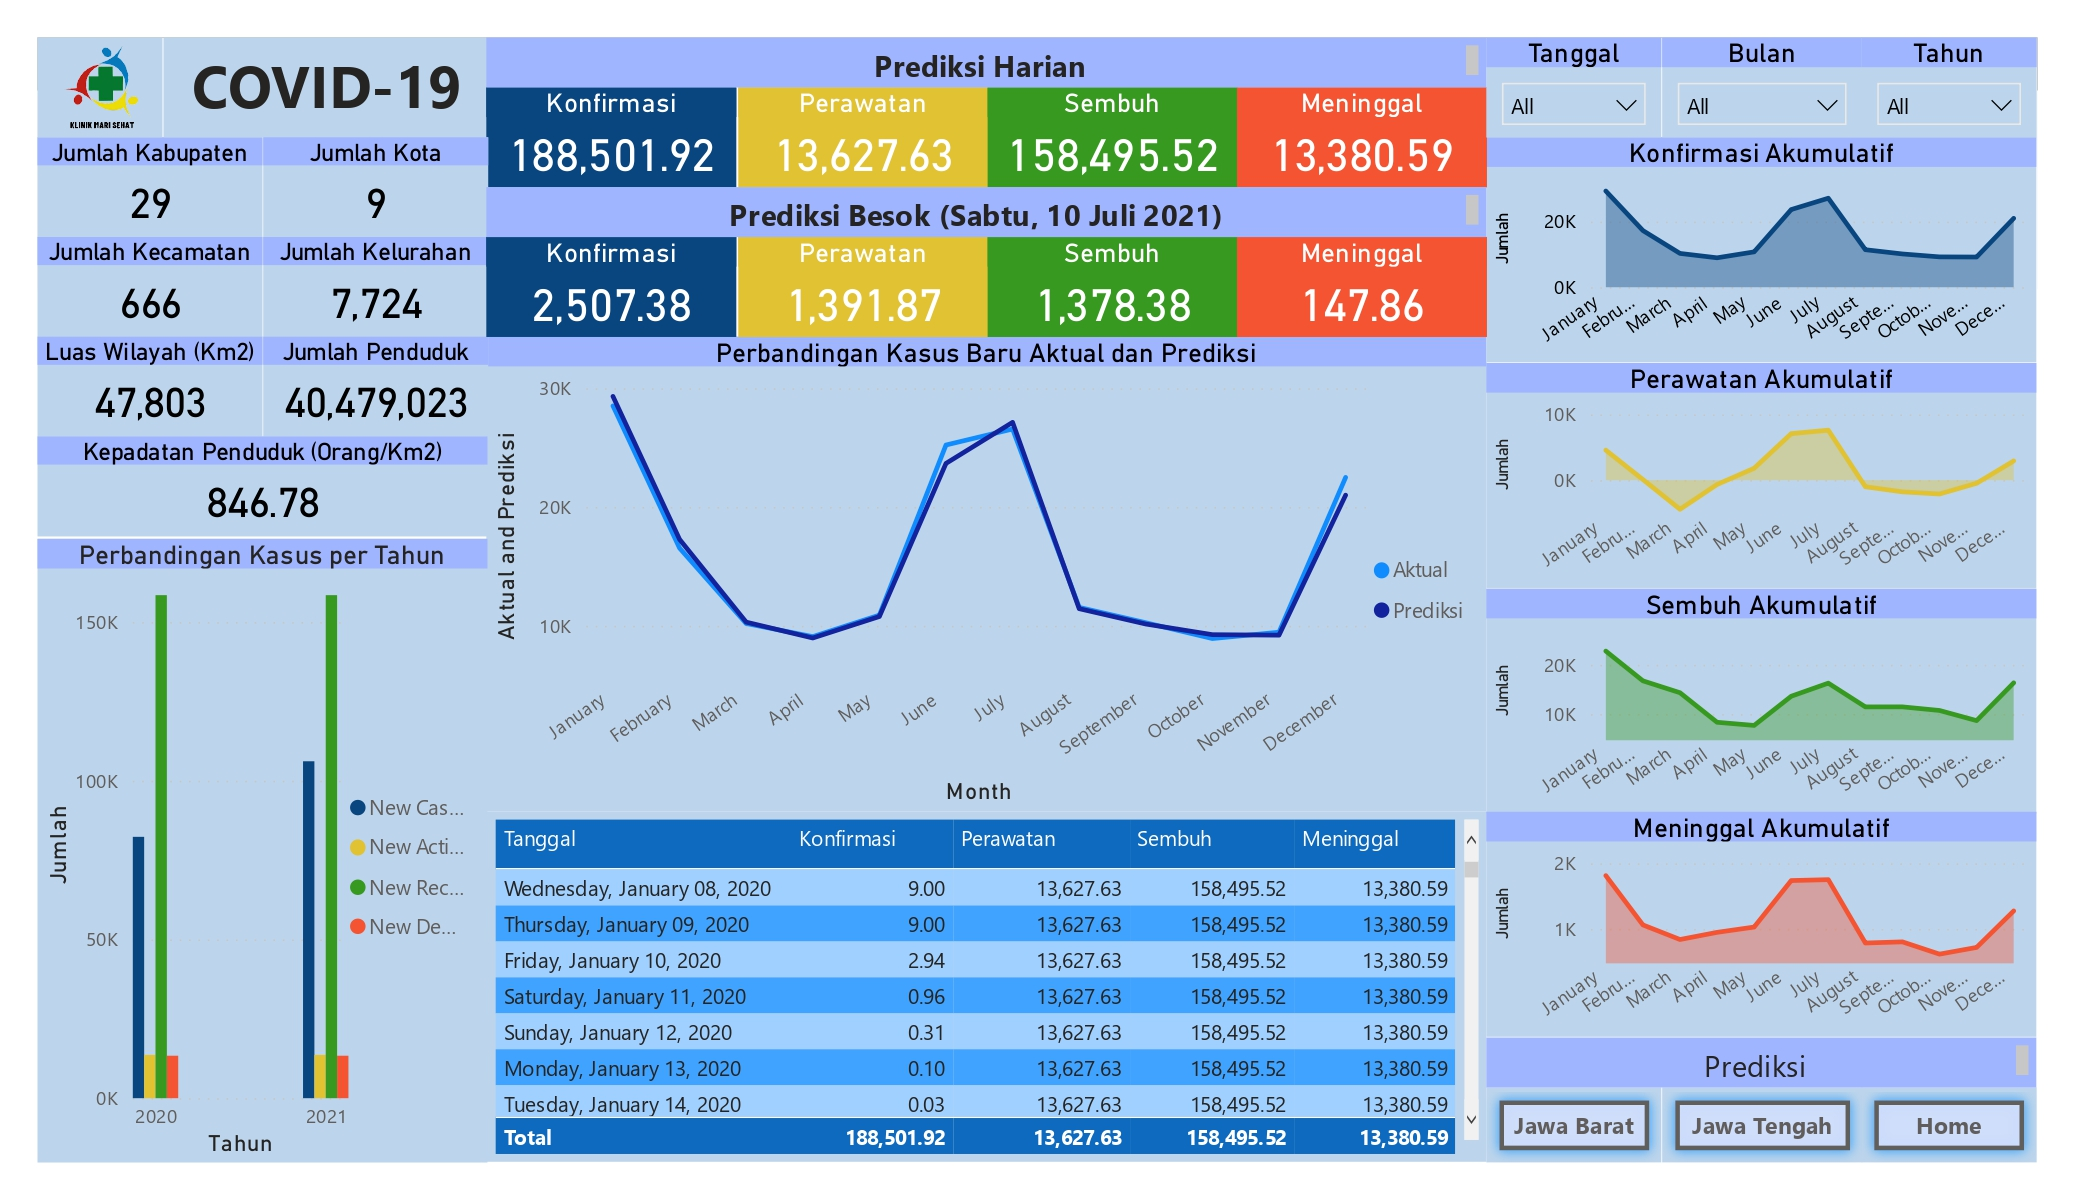

The page's visual inventory and layout, read from the dashboard file:
{"tool":"powerbi","page":{"name":"Prediksi Jawa Timur","canvas":[1280,720],"ordinal":3},"visuals":[{"type":"card","title":"Jumlah Kabupaten","fields":{"Values":["Sum(KependudukanJatim.Total Regencies)"]},"box":[0,64,144,64],"z":0},{"type":"lineChart","title":"Perbandingan Kasus Baru  Aktual dan Prediksi","fields":{"Category":["NewCases_Jatim.Date.Variation.Date Hierarchy.Month"],"Y":["Sum(NewCases_Jatim.New Cases)","Sum(NewCases_Jatim.New Cases Prediction)"]},"box":[288,192,640,304],"z":1000},{"type":"tableEx","title":"Deaths by Countries","fields":{"Values":["NewCases_Jatim.Date","Sum(NewCases_Jatim.New Cases Prediction)","Sum(NewActiveCases_Jatim.New Active Cases Prediction)","Sum(NewRecovered_Jatim.New Recovered Prediction)","Sum(NewDeaths_Jatim.New Deaths Prediction)"]},"box":[288,496,640,224],"z":2000},{"type":"areaChart","title":"Konfirmasi Akumulatif","fields":{"Category":["NewCases_Jatim.Date.Variation.Date Hierarchy.Month"],"Y":["Sum(NewCases_Jatim.New Cases Prediction)"]},"box":[928,64,352,144],"z":3000},{"type":"card","title":"Perawatan","fields":{"Values":["Sum(NewActiveCases_Jatim.New Active Cases Prediction)"]},"box":[448,32,160,64],"z":4000},{"type":"card","title":"Sembuh","fields":{"Values":["Sum(NewRecovered_Jatim.New Recovered Prediction)"]},"box":[608,32,160,64],"z":5000},{"type":"card","title":"Meninggal","fields":{"Values":["Sum(NewDeaths_Jatim.New Deaths Prediction)"]},"box":[768,32,160,64],"z":6000},{"type":"image","box":[0,0,80,64],"z":7000},{"type":"slicer","title":"Bulan","fields":{"Values":["MariSehat_Clean.Month Name"]},"box":[1040,0,128,64],"z":8000},{"type":"slicer","title":"Tanggal","fields":{"Values":["MariSehat_Clean.Day"]},"box":[928,0,112,64],"z":9000},{"type":"slicer","title":"Tahun","fields":{"Values":["MariSehat_Clean.Year"]},"box":[1168,0,112,64],"z":10000},{"type":"textbox","box":[80,0,208,64],"z":11000},{"type":"areaChart","title":"Perawatan Akumulatif","fields":{"Category":["NewActiveCases_Jatim.Date.Variation.Date Hierarchy.Month"],"Y":["Sum(NewActiveCases_Jatim.New Active Cases Prediction)"]},"box":[928,208,352,144],"z":12000},{"type":"stackedAreaChart","title":"Sembuh Akumulatif","fields":{"Category":["NewRecovered_Jatim.Date.Variation.Date Hierarchy.Month"],"Y":["Sum(NewRecovered_Jatim.New Recovered Prediction)"]},"box":[928,352,352,144],"z":13000},{"type":"stackedAreaChart","title":"Meninggal Akumulatif","fields":{"Category":["NewDeaths_Jatim.Date.Variation.Date Hierarchy.Month"],"Y":["Sum(NewDeaths_Jatim.New Deaths Prediction)"]},"box":[928,496,352,144],"z":14000},{"type":"actionButton","box":[928,672,112,48],"z":15000},{"type":"actionButton","box":[1040,672,128,48],"z":16000},{"type":"actionButton","box":[1168,672,112,48],"z":17000},{"type":"textbox","box":[928,640,352,32],"z":18000},{"type":"card","title":"Konfirmasi","fields":{"Values":["Sum(NewCases_Jatim.New Cases Prediction)"]},"box":[288,32,160,64],"z":19000},{"type":"card","title":"Jumlah                                                                      Kota","fields":{"Values":["Sum(KependudukanJatim.Total Cities)"]},"box":[144,64,144,64],"z":20000},{"type":"card","title":"Jumlah Kecamatan","fields":{"Values":["Sum(KependudukanJatim.Total Districts)"]},"box":[0,128,144,64],"z":21000},{"type":"card","title":"Jumlah Kelurahan","fields":{"Values":["Sum(KependudukanJatim.Total Rural Villages)"]},"box":[144,128,144,64],"z":22000},{"type":"card","title":"Luas Wilayah (Km2)","fields":{"Values":["Sum(KependudukanJatim.Area (km2))"]},"box":[0,192,144,64],"z":23000},{"type":"card","title":"Jumlah Penduduk","fields":{"Values":["Sum(KependudukanJatim.Population)"]},"box":[144,192,144,64],"z":24000},{"type":"card","title":"Kepadatan Penduduk (Orang/Km2)","fields":{"Values":["Sum(KependudukanJatim.Population Density)"]},"box":[0,256,288,64],"z":25000},{"type":"card","title":"Konfirmasi","fields":{"Values":["Sum(NewCases_Jatim.Tomorrow Prediction)"]},"box":[288,128,160,64],"z":26000},{"type":"card","title":"Perawatan","fields":{"Values":["Sum(NewActiveCases_Jateng.Tomorrow Prediction)"]},"box":[448,128,160,64],"z":27000},{"type":"card","title":"Sembuh","fields":{"Values":["Sum(NewRecovered_Jatim.Tomorrow Prediction)"]},"box":[608,128,160,64],"z":28000},{"type":"card","title":"Meninggal","fields":{"Values":["Sum(NewDeaths_Jatim.Tomorrow Prediction)"]},"box":[768,128,160,64],"z":29000},{"type":"textbox","box":[288,0,640,32],"z":30000},{"type":"textbox","box":[288,96,640,32],"z":31000},{"type":"clusteredColumnChart","title":"Perbandingan Kasus per Tahun","fields":{"Category":["NewCases_Jatim.Date.Variation.Date Hierarchy.Year","NewCases_Jatim.Date.Variation.Date Hierarchy.Quarter","NewCases_Jatim.Date.Variation.Date Hierarchy.Month","NewCases_Jatim.Date.Variation.Date Hierarchy.Day"],"Y":["Sum(NewCases_Jatim.New Cases Prediction)","Sum(NewActiveCases_Jatim.New Active Cases Prediction)","Sum(NewRecovered_Jatim.New Recovered Prediction)","Sum(NewDeaths_Jatim.New Deaths Prediction)"]},"box":[0,320,288,400],"z":32000}]}

Visuals, with their boxes in screenshot pixels (x1, y1, x2, y2):
"Jumlah Kabupaten" card: [38, 138, 262, 238]
"Perbandingan Kasus Baru  Aktual dan Prediksi" lineChart: [488, 338, 1488, 812]
"Deaths by Countries" tableEx: [488, 812, 1488, 1162]
"Konfirmasi Akumulatif" areaChart: [1488, 138, 2038, 362]
"Perawatan" card: [738, 88, 988, 188]
"Sembuh" card: [988, 88, 1238, 188]
"Meninggal" card: [1238, 88, 1488, 188]
image: [38, 38, 162, 138]
"Bulan" slicer: [1662, 38, 1862, 138]
"Tanggal" slicer: [1488, 38, 1662, 138]
"Tahun" slicer: [1862, 38, 2038, 138]
textbox: [162, 38, 488, 138]
"Perawatan Akumulatif" areaChart: [1488, 362, 2038, 588]
"Sembuh Akumulatif" stackedAreaChart: [1488, 588, 2038, 812]
"Meninggal Akumulatif" stackedAreaChart: [1488, 812, 2038, 1038]
actionButton: [1488, 1088, 1662, 1162]
actionButton: [1662, 1088, 1862, 1162]
actionButton: [1862, 1088, 2038, 1162]
textbox: [1488, 1038, 2038, 1088]
"Konfirmasi" card: [488, 88, 738, 188]
"Jumlah                                                                      Kota" card: [262, 138, 488, 238]
"Jumlah Kecamatan" card: [38, 238, 262, 338]
"Jumlah Kelurahan" card: [262, 238, 488, 338]
"Luas Wilayah (Km2)" card: [38, 338, 262, 438]
"Jumlah Penduduk" card: [262, 338, 488, 438]
"Kepadatan Penduduk (Orang/Km2)" card: [38, 438, 488, 538]
"Konfirmasi" card: [488, 238, 738, 338]
"Perawatan" card: [738, 238, 988, 338]
"Sembuh" card: [988, 238, 1238, 338]
"Meninggal" card: [1238, 238, 1488, 338]
textbox: [488, 38, 1488, 88]
textbox: [488, 188, 1488, 238]
"Perbandingan Kasus per Tahun" clusteredColumnChart: [38, 538, 488, 1162]
